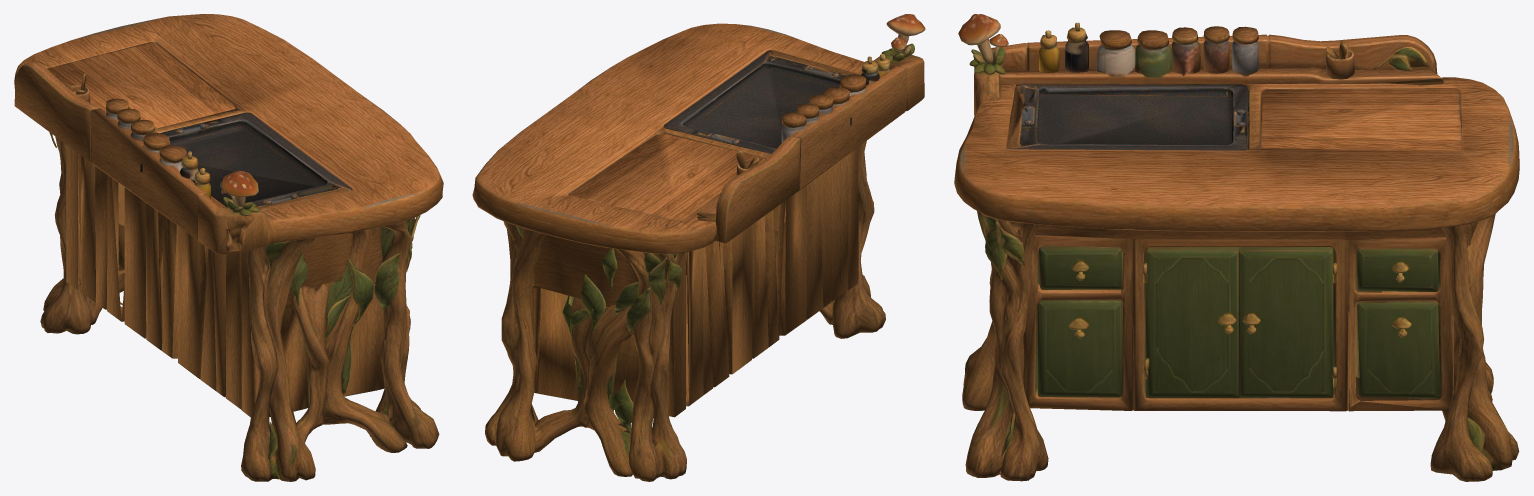
File: SM_Counter.fbx
3 renders of one model, left to right at view 1: azimuth 30°, elevation 25°; view 2: azimuth 150°, elevation 25°; view 3: azimuth 270°, elevation 25°, orthographic. The views are drawn at different scales.
Parts seen in each view (by area): view 1: SM_Counter; view 2: SM_Counter; view 3: SM_Counter.
Boxes of the visible parts, x1,y1,x2,y2 form: SM_Counter: [14, 14, 443, 481]; SM_Counter: [472, 14, 925, 481]; SM_Counter: [954, 14, 1519, 481].
Size of the model in its own units: 80.16 by 137 by 95.
1 material, 1 textured.
